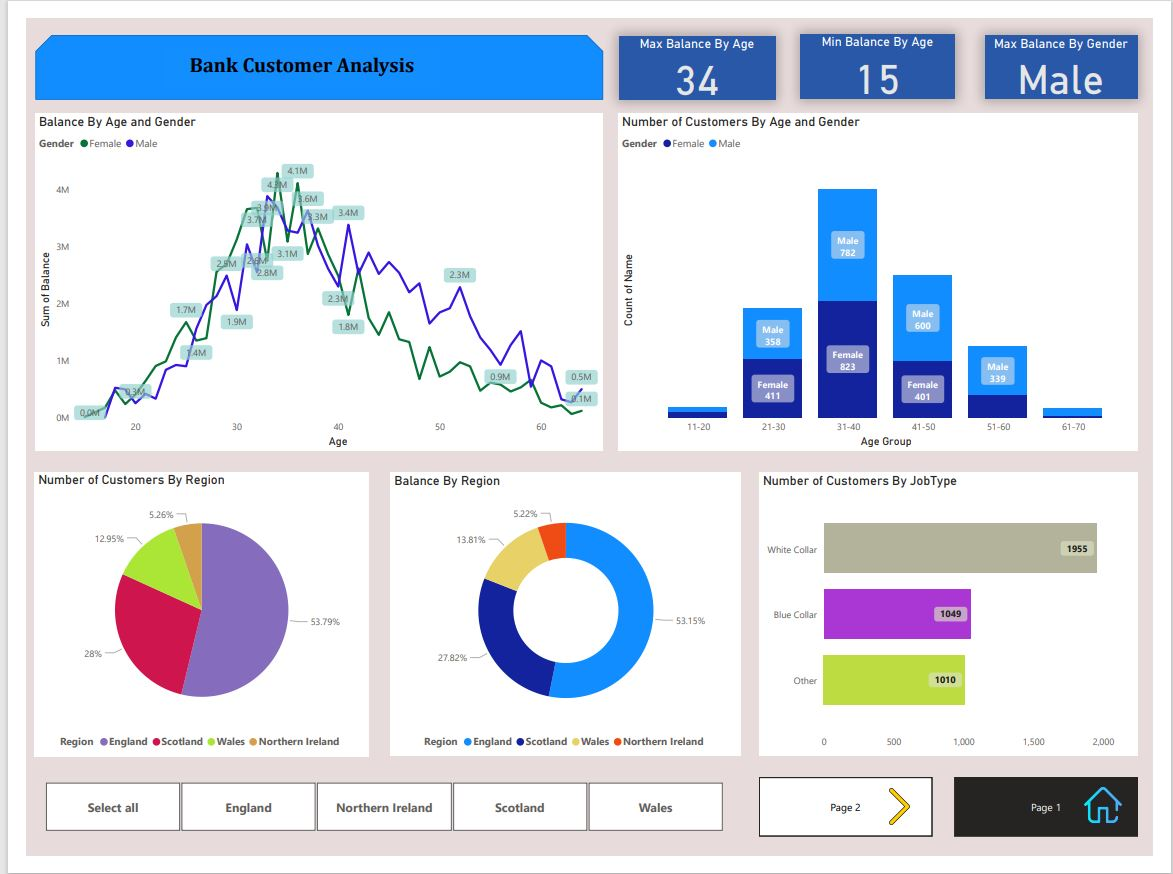

The dashboard page shown, as its layout file describes it:
{"tool":"powerbi","page":{"name":"Page 1","canvas":[1480,1100],"ordinal":0},"visuals":[{"type":"card","title":"Max Balance By Age","fields":{"Values":["Max(Bank Data Analysis.Age)"]},"box":[778.6,22.9,205.7,84.3],"z":0},{"type":"shape","box":[11.7,21.7,746.7,85],"z":1000},{"type":"card","title":"Min Balance By Age","fields":{"Values":["Min(Bank Data Analysis.Age)"]},"box":[1017.1,21.4,202.9,84.3],"z":2000},{"type":"textbox","box":[181.7,40,361.7,50],"z":3000},{"type":"card","title":"Max Balance By Gender","fields":{"Values":["Min(Bank Data Analysis.Gender)"]},"box":[1258.6,22.9,201.4,82.9],"z":4000},{"type":"lineChart","title":"Balance By Age and Gender","fields":{"Y":["Sum(Bank Data Analysis.Balance)"],"Category":["Bank Data Analysis.Age"],"Series":["Bank Data Analysis.Gender"]},"box":[11.7,125,746.7,443.3],"z":5000},{"type":"columnChart","title":"Number of Customers By Age and Gender","fields":{"Category":["Bank Data Analysis.Age Group"],"Y":["CountNonNull(Bank Data Analysis.Name)"],"Series":["Bank Data Analysis.Gender"]},"box":[778.3,125,681.7,443.3],"z":6000},{"type":"pieChart","title":"Number of Customers By Region","fields":{"Y":["CountNonNull(Bank Data Analysis.Name)"],"Category":["Bank Data Analysis.Region"]},"box":[11.4,595.7,438.6,372.9],"z":7000},{"type":"donutChart","title":"Balance By Region","fields":{"Y":["Sum(Bank Data Analysis.Balance)"],"Category":["Bank Data Analysis.Region"]},"box":[478.6,597.1,460,371.4],"z":8000},{"type":"barChart","title":"Number of Customers By JobType","fields":{"Category":["Bank Data Analysis.Job Classification"],"Y":["CountNonNull(Bank Data Analysis.Name)"]},"box":[962.9,597.1,497.1,371.4],"z":9000},{"type":"pageNavigator","box":[1220,997.1,240,77.1],"z":9001},{"type":"pageNavigator","box":[962.9,997.1,227.1,77.1],"z":9002},{"type":"slicer","fields":{"Values":["Bank Data Analysis.Region"]},"box":[0,997.1,938.6,77.1],"z":9003},{"type":"image","box":[1385.7,997.1,58.6,71.4],"z":9004},{"type":"image","box":[1118.6,1007.1,57.1,57.1],"z":9005}]}

Visuals, with their boxes in screenshot pixels (x1, y1, x2, y2), scaled from the page's 1480x1100 canvas onto the 1173x874 screenshot:
"Max Balance By Age" card: 617, 18, 780, 85
shape: 9, 17, 601, 85
"Min Balance By Age" card: 806, 17, 967, 84
textbox: 144, 32, 431, 72
"Max Balance By Gender" card: 998, 18, 1157, 84
"Balance By Age and Gender" lineChart: 9, 99, 601, 452
"Number of Customers By Age and Gender" columnChart: 617, 99, 1157, 452
"Number of Customers By Region" pieChart: 9, 473, 357, 770
"Balance By Region" donutChart: 379, 474, 744, 770
"Number of Customers By JobType" barChart: 763, 474, 1157, 770
pageNavigator: 967, 792, 1157, 854
pageNavigator: 763, 792, 943, 854
slicer - Bank Data Analysis.Region: 0, 792, 744, 854
image: 1098, 792, 1145, 849
image: 887, 800, 932, 846
